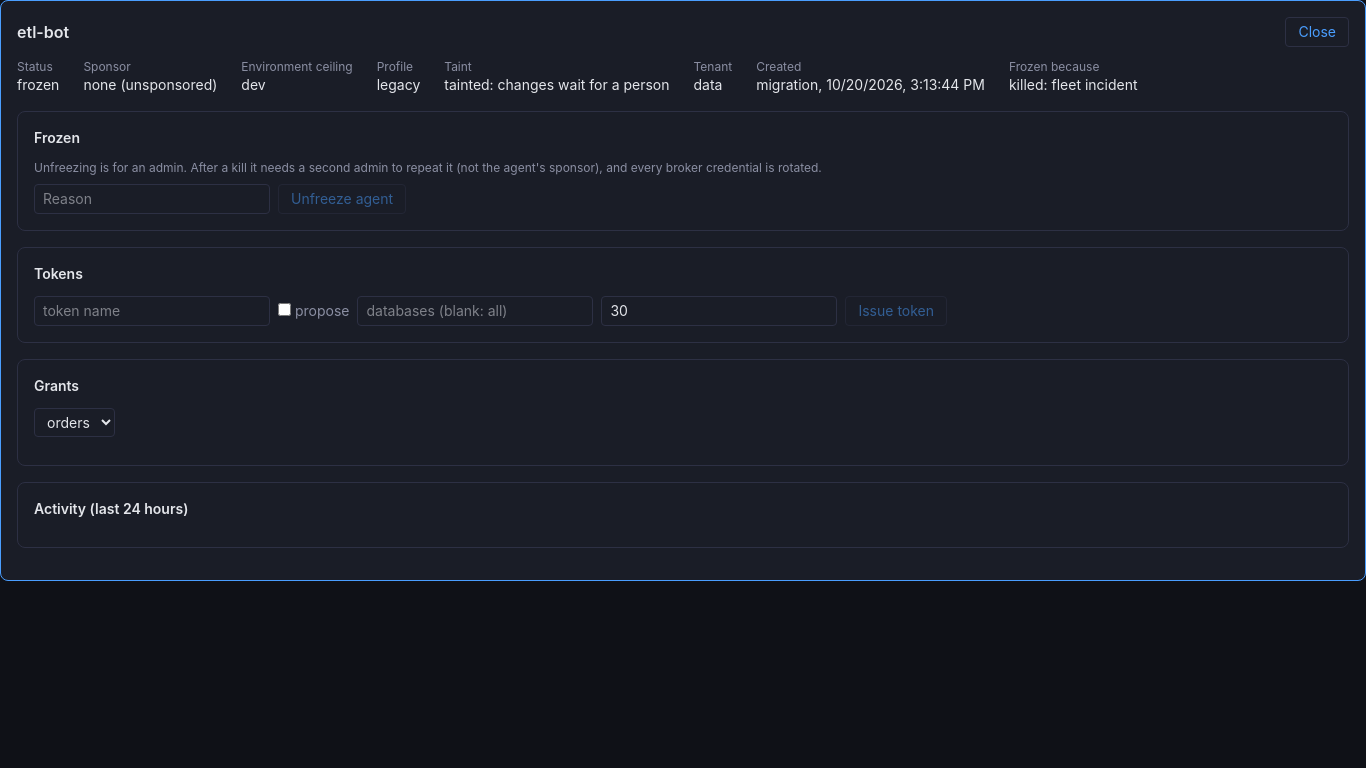
Test: AgentDetail freeze and unfreeze › shows the refusal when the sponsor tries to be the second admin
The width and height of the screenshot is (1366, 768).
Expected: the text "frozen" is shown, left=17, top=75, right=59, bottom=95
Type "ok now" into the field with test id "agent-unfreeze-reason" at coordinates (152, 199), box left=34, top=184, right=270, bottom=214
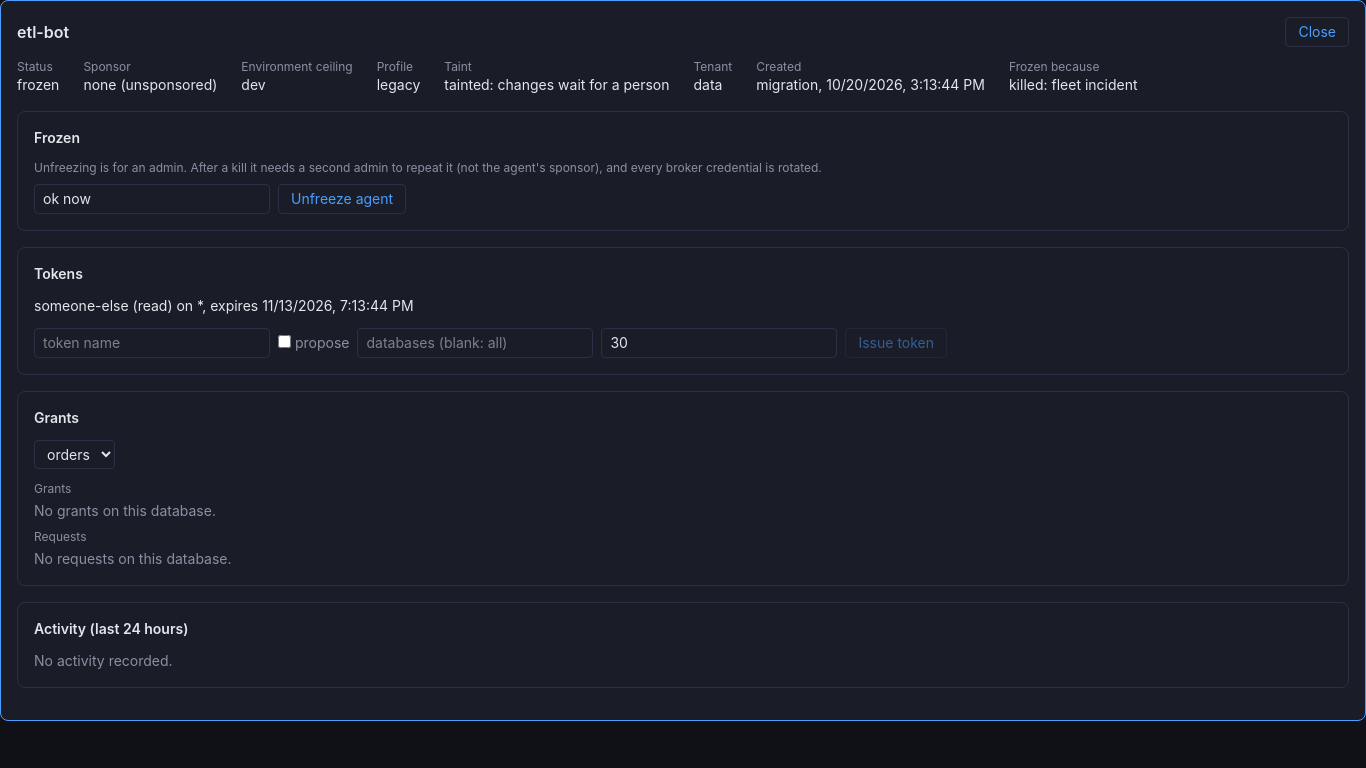
Click the button with test id "agent-unfreeze" at coordinates (342, 199), box left=278, top=184, right=406, bottom=214
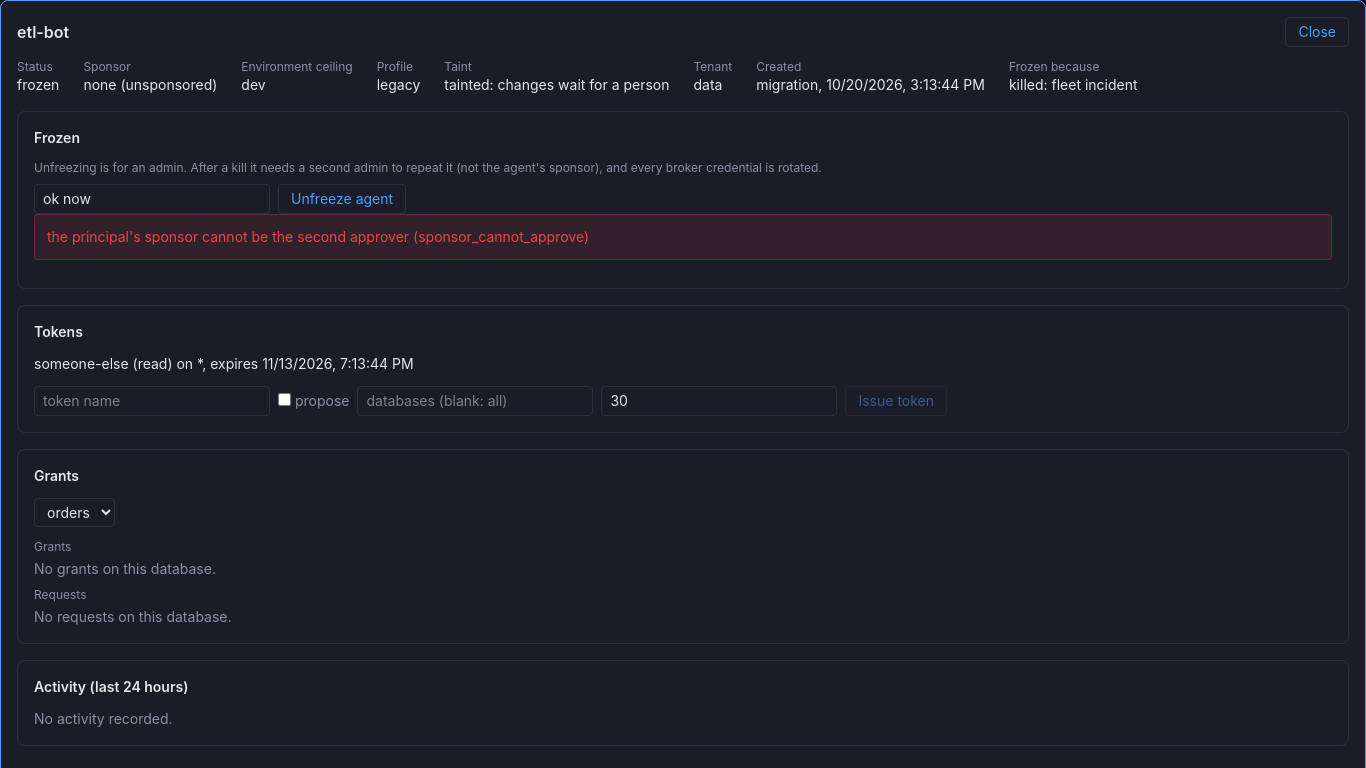
Now the message with test id "agent-unfreeze-error" shows "sponsor cannot be the second approver", box left=47, top=228, right=409, bottom=245
